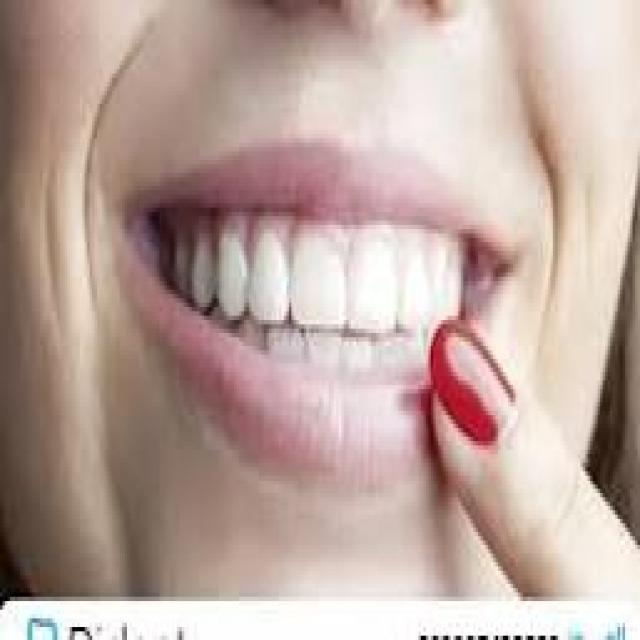tooth: (346, 225, 391, 324), (291, 242, 344, 312), (184, 242, 242, 303), (433, 250, 473, 328), (398, 234, 426, 328), (251, 242, 284, 320), (272, 337, 306, 389), (376, 342, 421, 376), (338, 342, 374, 376), (311, 337, 336, 385), (234, 324, 264, 359)
